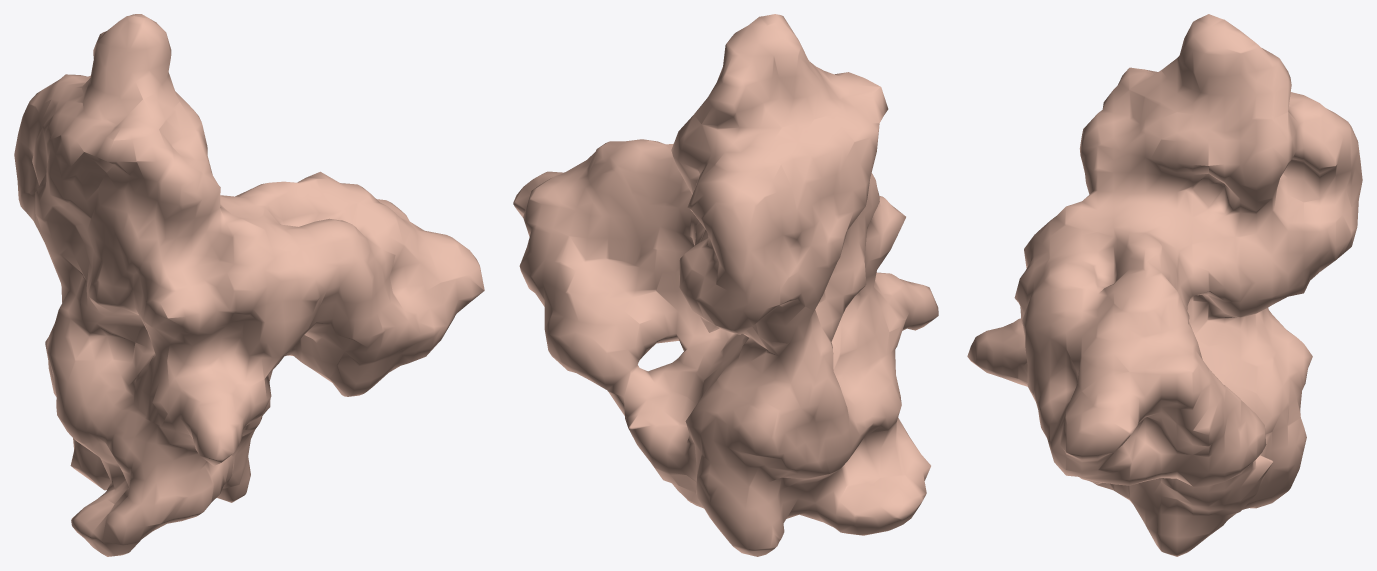
The model's file is ezrin.dae.
3 renders of one model, left to right at view 1: azimuth 30°, elevation 25°; view 2: azimuth 150°, elevation 25°; view 3: azimuth 270°, elevation 25°, orthographic. The views are drawn at different scales.
Visible parts, largest first — view 1: CoarseMS_1ni2A; view 2: CoarseMS_1ni2A; view 3: CoarseMS_1ni2A.
Part boxes in pixels (x1,y1,x2,y2): CoarseMS_1ni2A: (14,14,484,556); CoarseMS_1ni2A: (513,14,938,556); CoarseMS_1ni2A: (967,14,1362,556).
Size of the model in its own units: 55.99 by 68.87 by 49.2.
